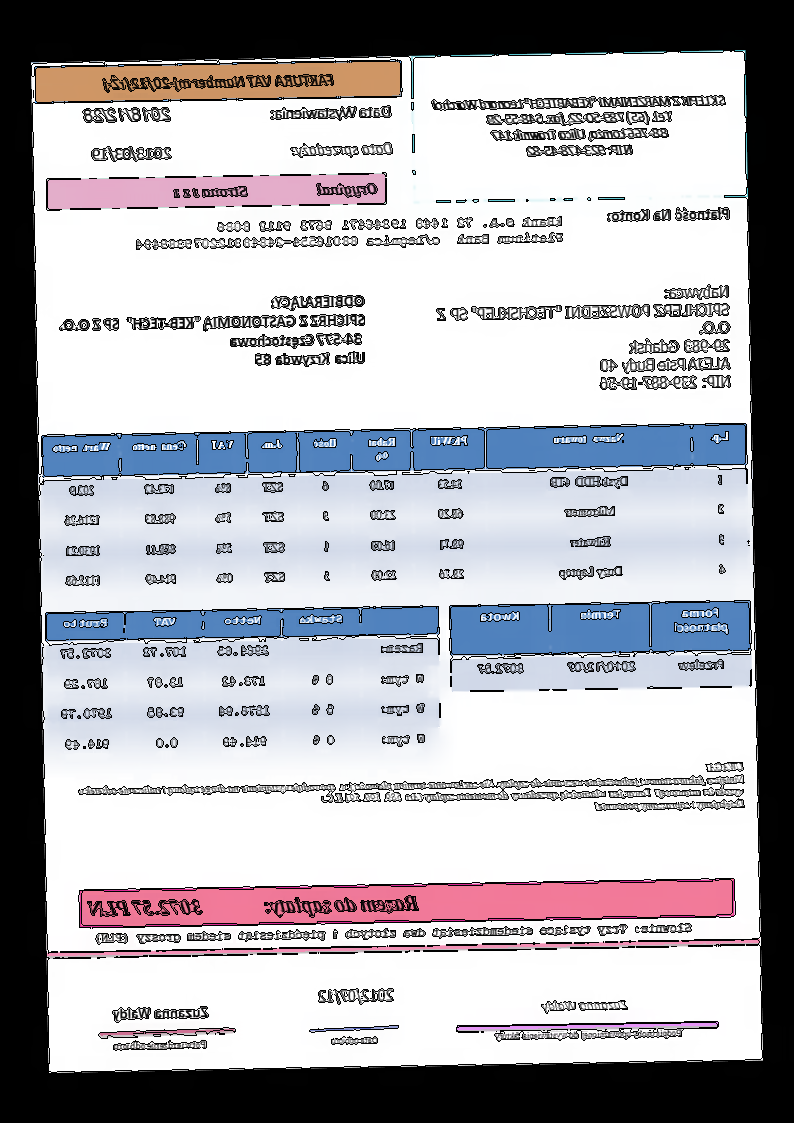Table: (39, 419, 751, 602), (43, 603, 444, 765), (448, 597, 753, 693)
TextBox: (73, 758, 747, 823), (434, 282, 733, 397), (57, 291, 370, 373), (428, 91, 729, 163), (132, 212, 567, 253), (94, 920, 694, 946), (84, 889, 423, 922), (100, 71, 337, 94), (171, 179, 380, 204), (492, 1024, 685, 1044), (267, 100, 395, 125), (287, 137, 398, 161), (603, 205, 732, 224), (81, 103, 173, 128), (109, 1001, 212, 1023), (111, 1034, 208, 1055), (539, 994, 633, 1015), (316, 984, 399, 1006), (89, 144, 176, 164), (329, 1030, 381, 1049)
